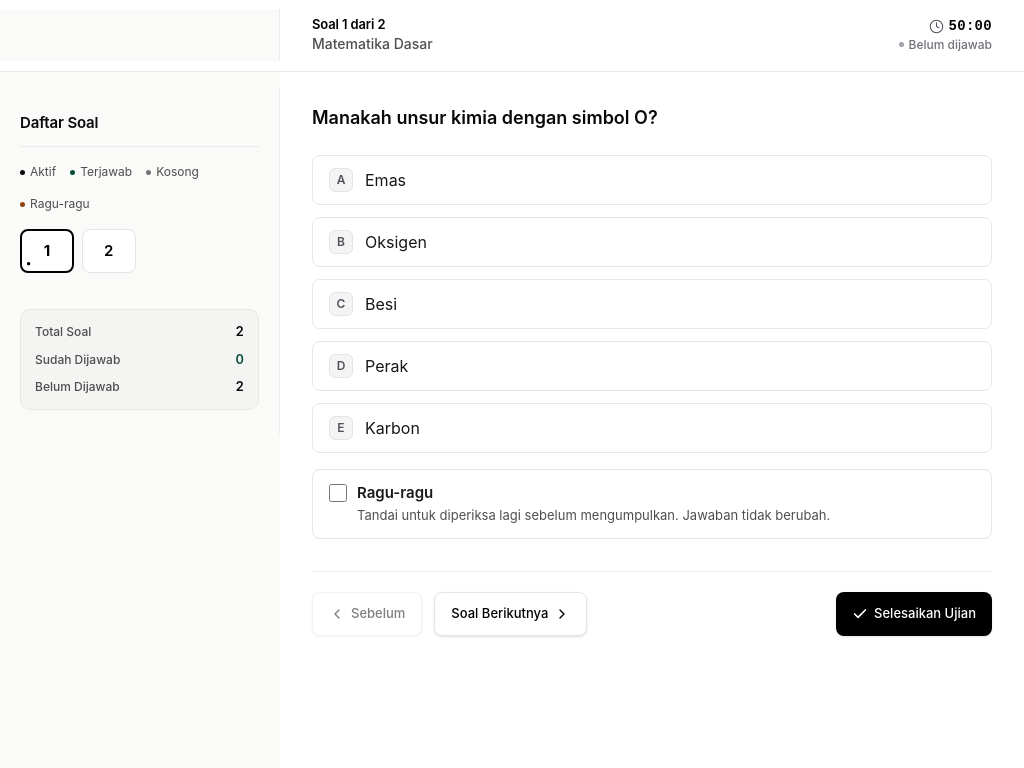
Scenario: BU-081 StudentExamWorkstation Test Suite › 35. previous and next navigation controls in bottom action bar function correctly and disable at boundaries
The width and height of the screenshot is (1024, 768).
Check: the text "Manakah unsur kimia dengan simbol O?" is shown, box [312,104,658,130]
Check: the button with aria-label "Soal Sebelumnya" is disabled, box [312,592,422,636]
# Click next
What coordinates should you click on to do the following:
click the button "Soal Berikutnya"
I would click on:
 (511, 614)
Its box is [434,592,587,636].
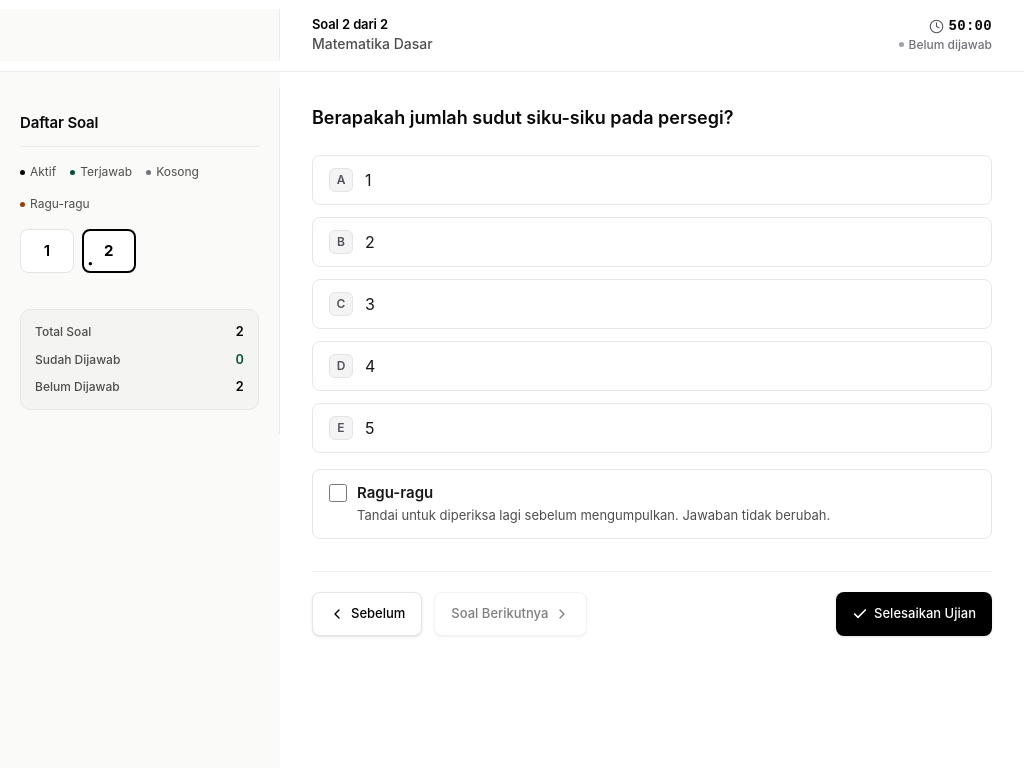
Check: the text "Berapakah jumlah sudut siku-siku pada persegi?" is shown, box [312,104,733,130]
Check: the button with aria-label "Soal Sebelumnya" is enabled
Check: the button "Soal Berikutnya" is disabled, box [434,592,587,636]
# Click prev
What coordinates should you click on to do the following:
click the button with aria-label "Soal Sebelumnya"
I would click on:
 (367, 614)
Its box is [312,592,422,636].
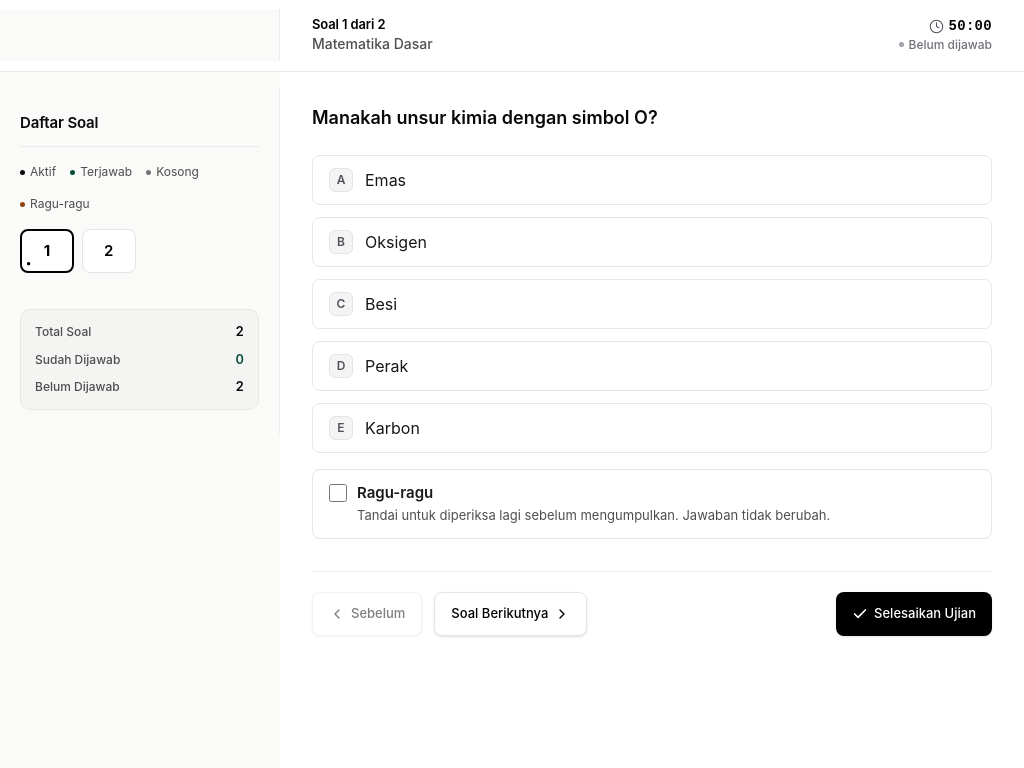
Check: the text "Manakah unsur kimia dengan simbol O?" is shown, box [312,104,658,130]
Check: the button with aria-label "Soal Sebelumnya" is disabled, box [312,592,422,636]
Check: the button "Soal Berikutnya" is enabled, box [434,592,587,636]
